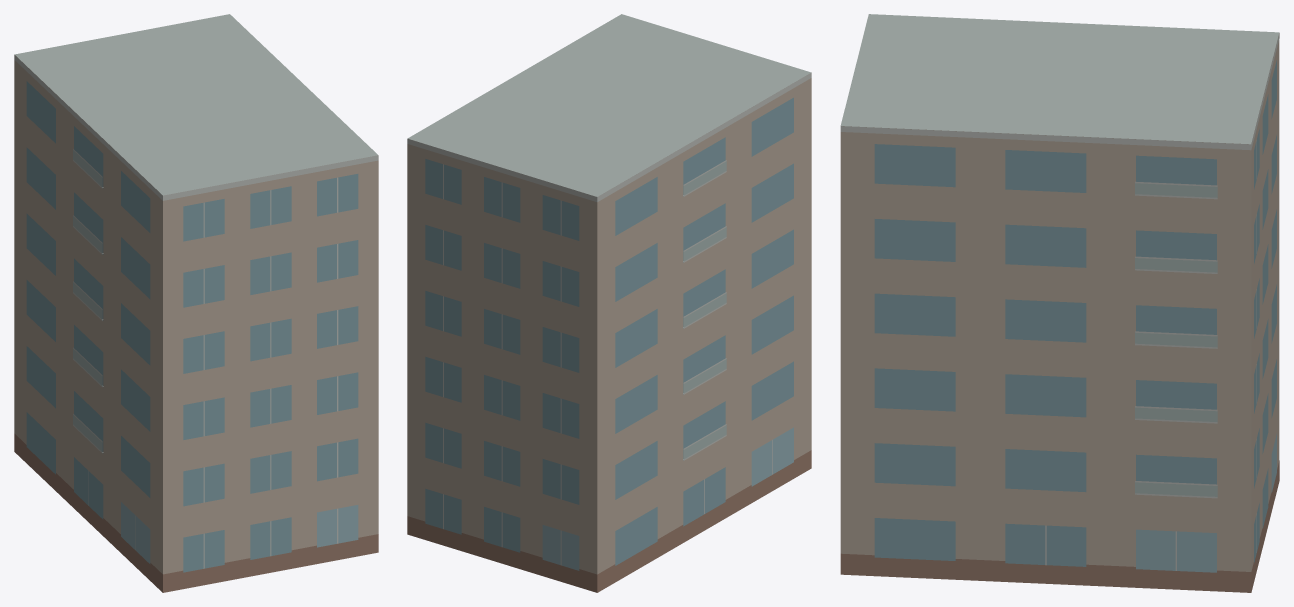
Rendered from survey-upis-32663636.glb.
3 renders of one model, left to right at view 1: azimuth 30°, elevation 25°; view 2: azimuth 150°, elevation 25°; view 3: azimuth 270°, elevation 25°, orthographic. The views are drawn at different scales.
Visible parts, largest first — view 1: survey-upis-32663636.tmp; view 2: survey-upis-32663636.tmp; view 3: survey-upis-32663636.tmp.
Part boxes in pixels (x1,y1,x2,y2): survey-upis-32663636.tmp: (14, 14, 378, 592); survey-upis-32663636.tmp: (407, 14, 811, 592); survey-upis-32663636.tmp: (840, 14, 1279, 592).
Bounding box in the file's own units: 11.4 × 18.3 × 16.23.
